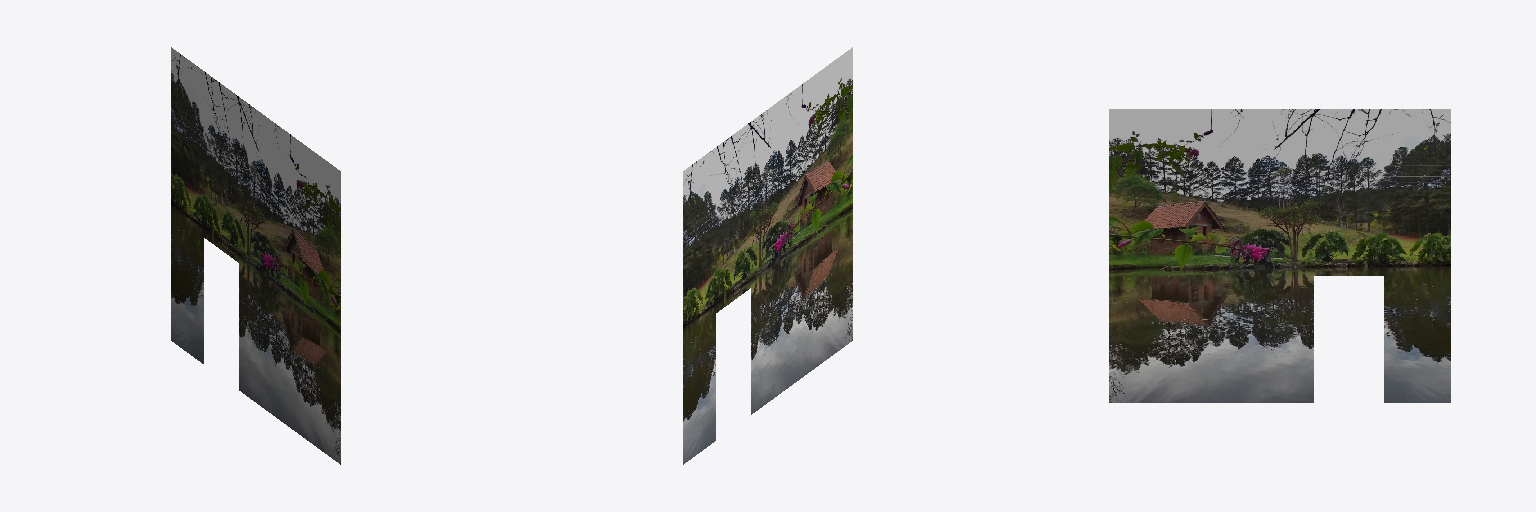
3 renders of one model, left to right at view 1: azimuth 30°, elevation 25°; view 2: azimuth 150°, elevation 25°; view 3: azimuth 270°, elevation 25°, orthographic.
Parts seen in each view (by area): view 1: Lago_02; view 2: Lago_02; view 3: Lago_02.
Boxes of the visible parts, x1=… form: Lago_02: x1=171, y1=47, x2=340, y2=464; Lago_02: x1=683, y1=47, x2=852, y2=464; Lago_02: x1=1109, y1=109, x2=1450, y2=402.
Size of the model in its own units: 0 by 8.07 by 8.51.
1 materials, 1 textured.